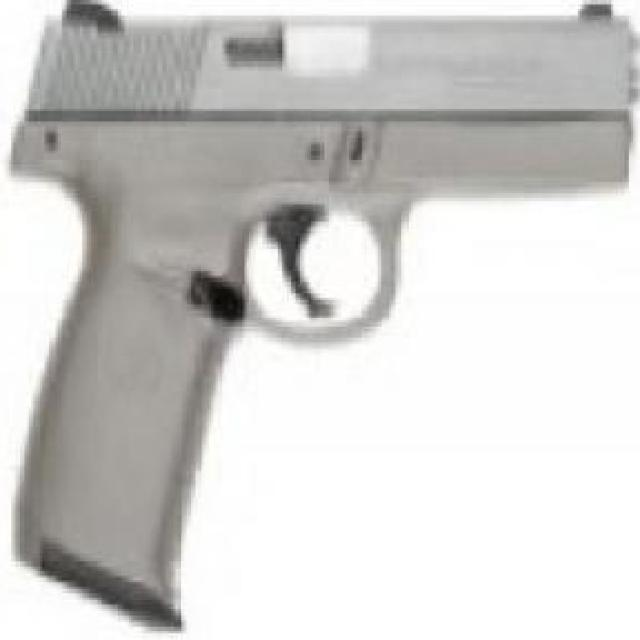pistol: (4, 0, 640, 627)
